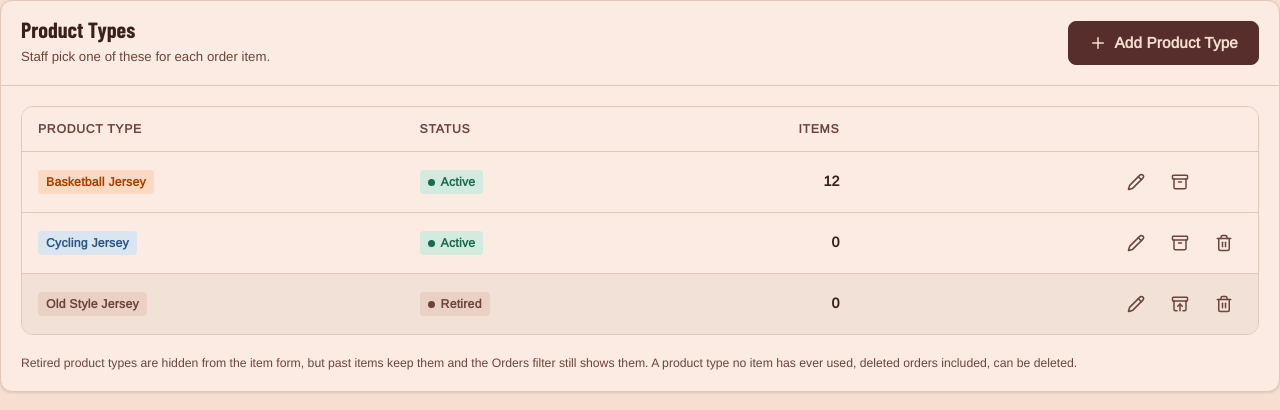
Test case: S1 list card: product-types › brings an entry back with the per-list toast
Expected: the table named "Product types" is shown, [22,107,1258,334]
Step 1. Click the button named "Use Old Style Jersey again" → (1180, 304), box [1162,286,1198,322]
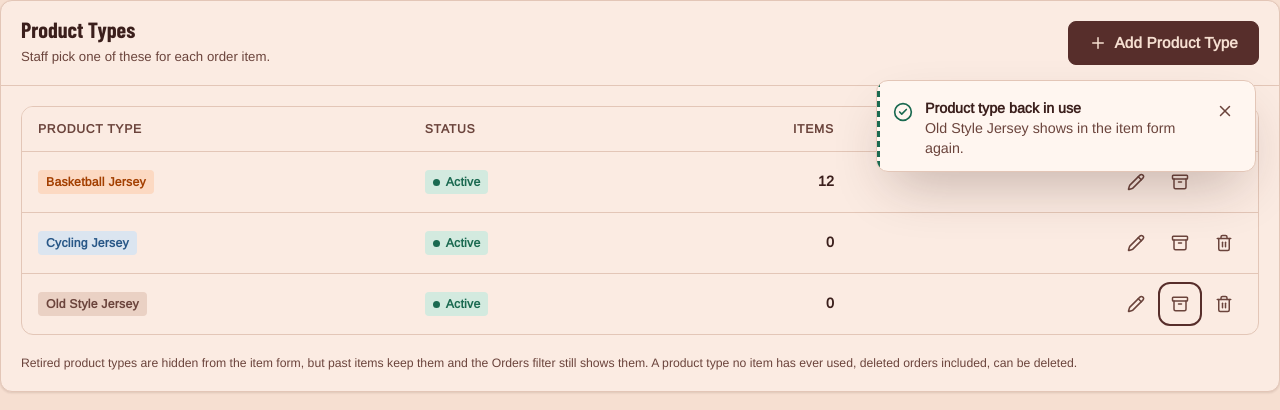
Expected: the text "Active" is shown, [425,292,488,316]
Expected: the text "Product type back in use" is shown, [925,101,1081,116]
